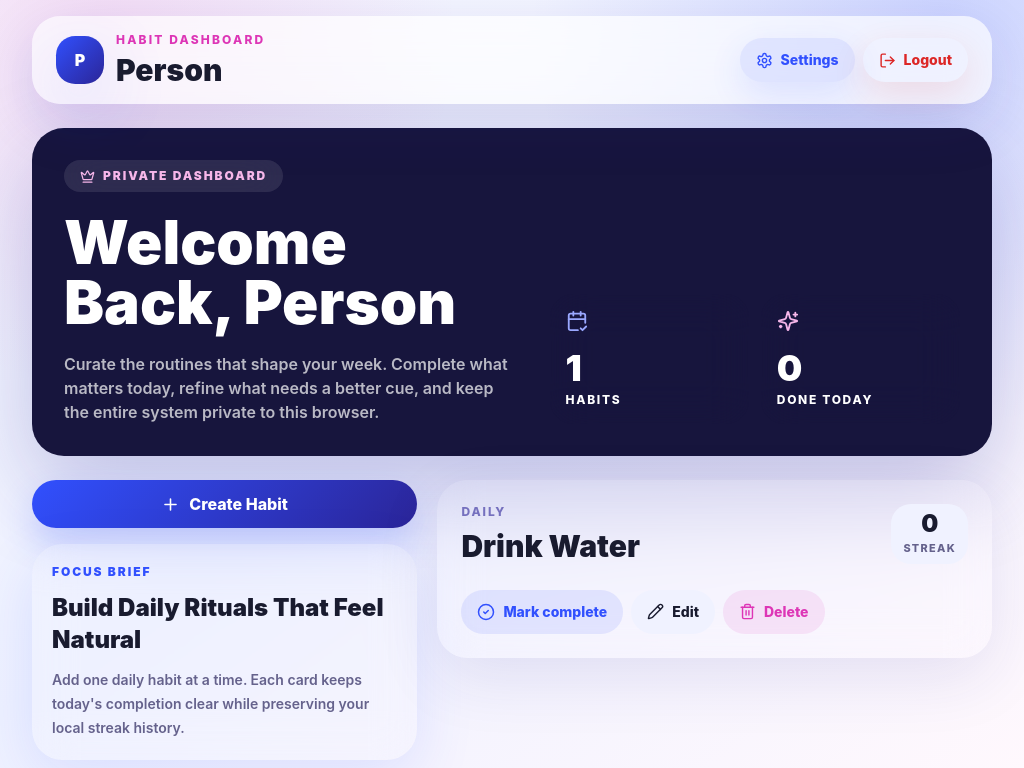
habit form › toggles completion and updates the streak display
The image size is (1024, 768).
Click the button with test id "habit-complete-drink-water": (542, 612) [461,590,623,634]
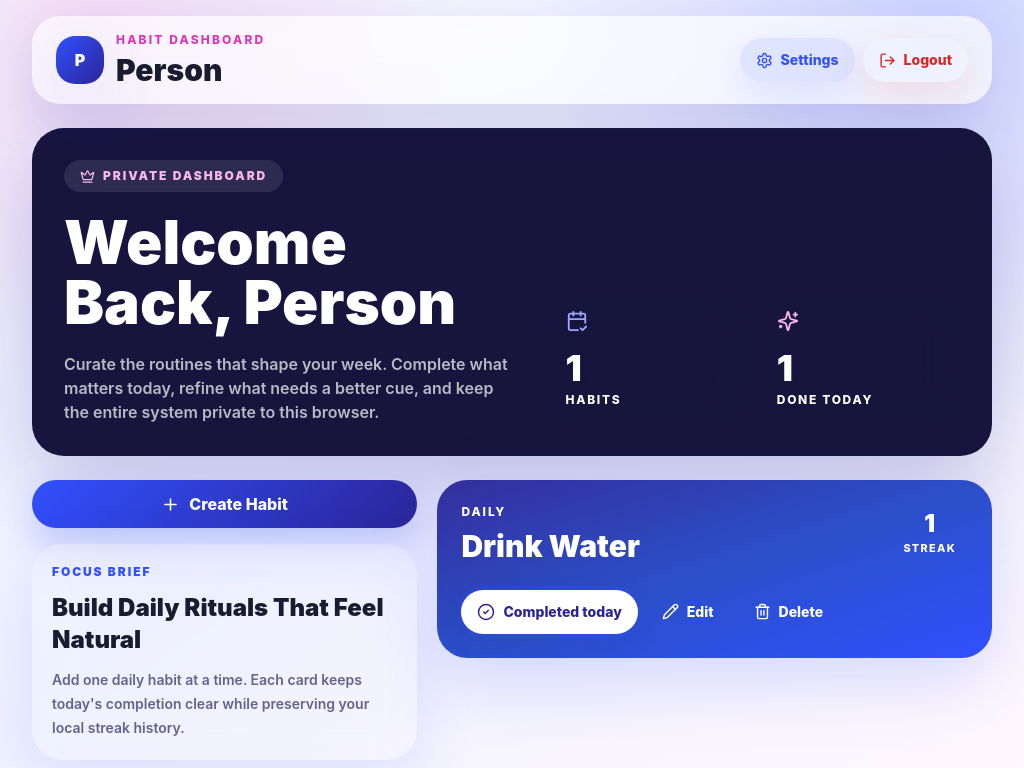
expect the text "1" in the row of "Drink Water" is shown: met, box [924,509,935,538]
